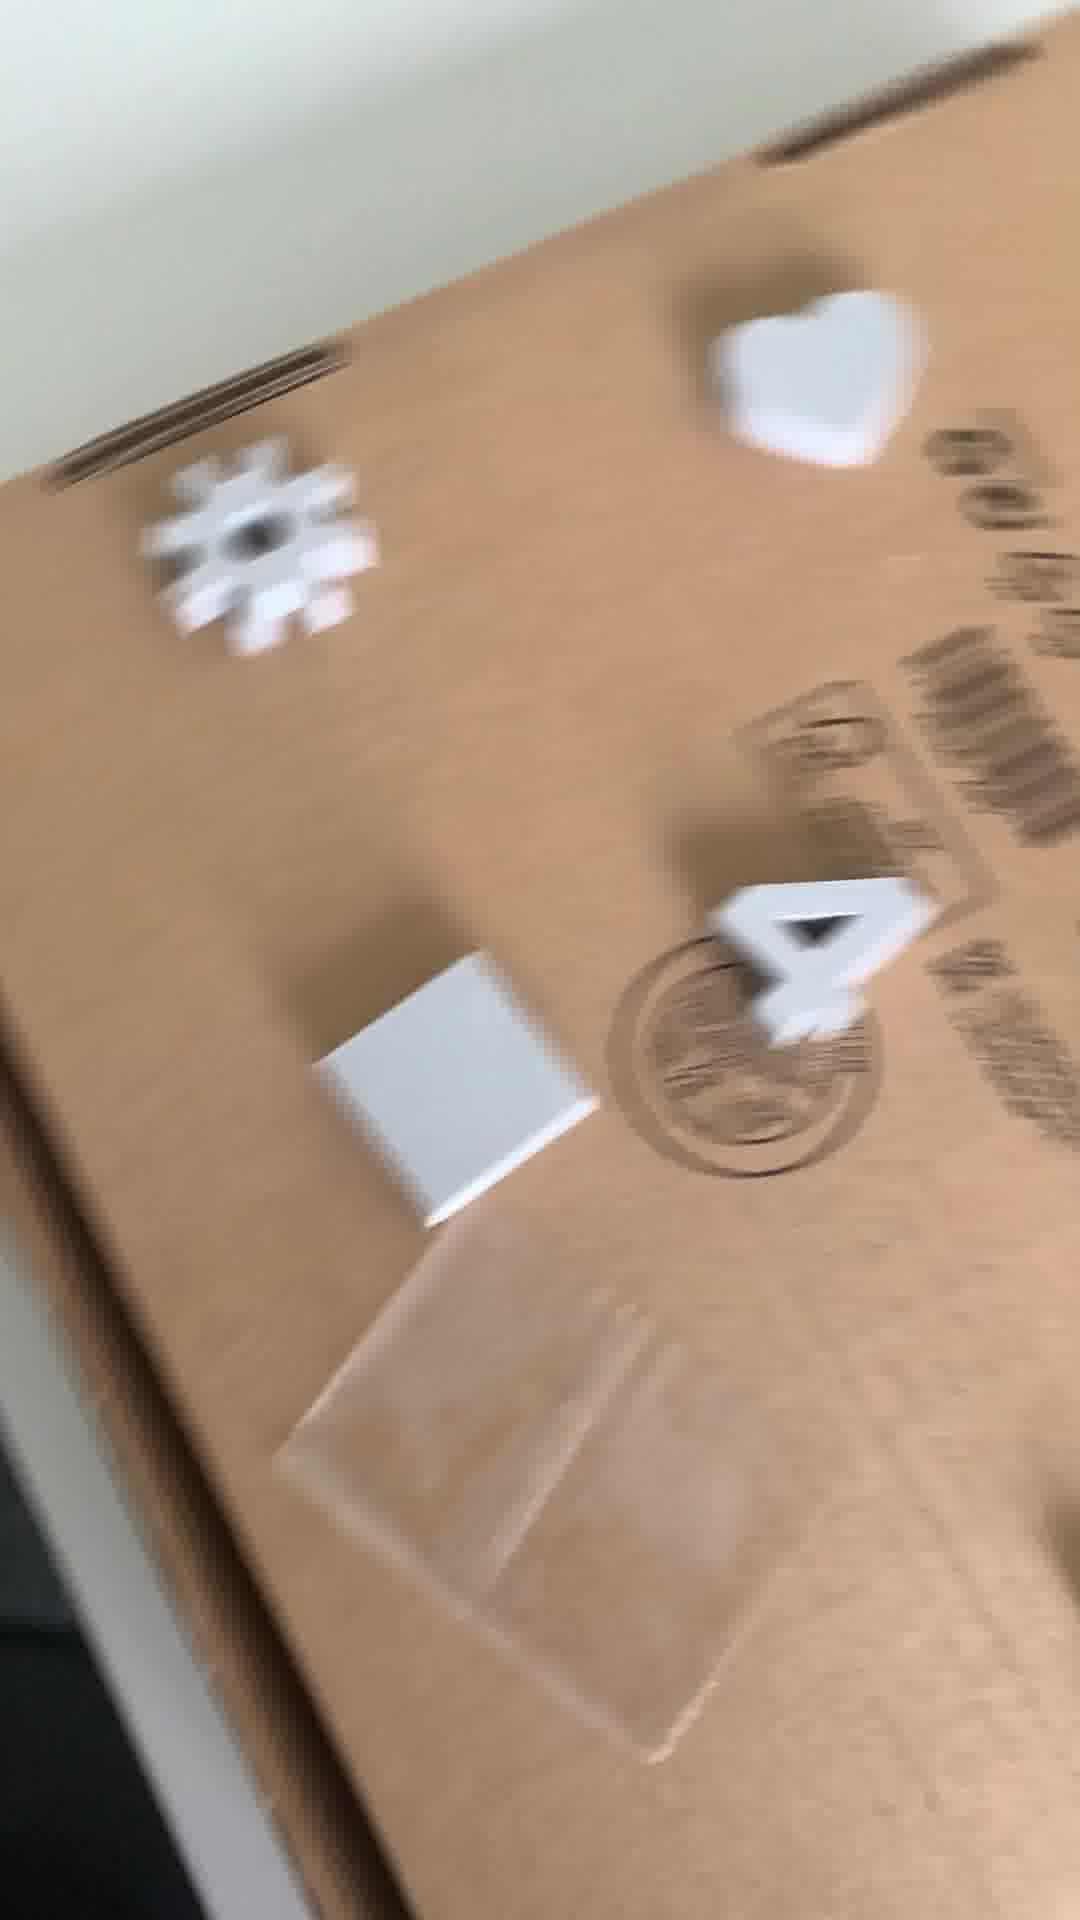Gray four: (719, 873, 928, 1033)
Gray gear: (135, 434, 392, 659)
Gray square: (307, 959, 596, 1211)
